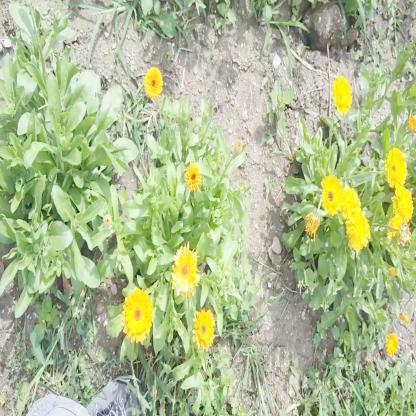marigold: (123, 290, 152, 340), (172, 247, 199, 299), (331, 75, 354, 116), (192, 308, 215, 348), (346, 210, 368, 251), (384, 148, 406, 188), (323, 173, 344, 214), (339, 185, 360, 223), (385, 196, 403, 237), (142, 66, 164, 98), (394, 186, 413, 219), (183, 162, 202, 190), (384, 329, 399, 359)
